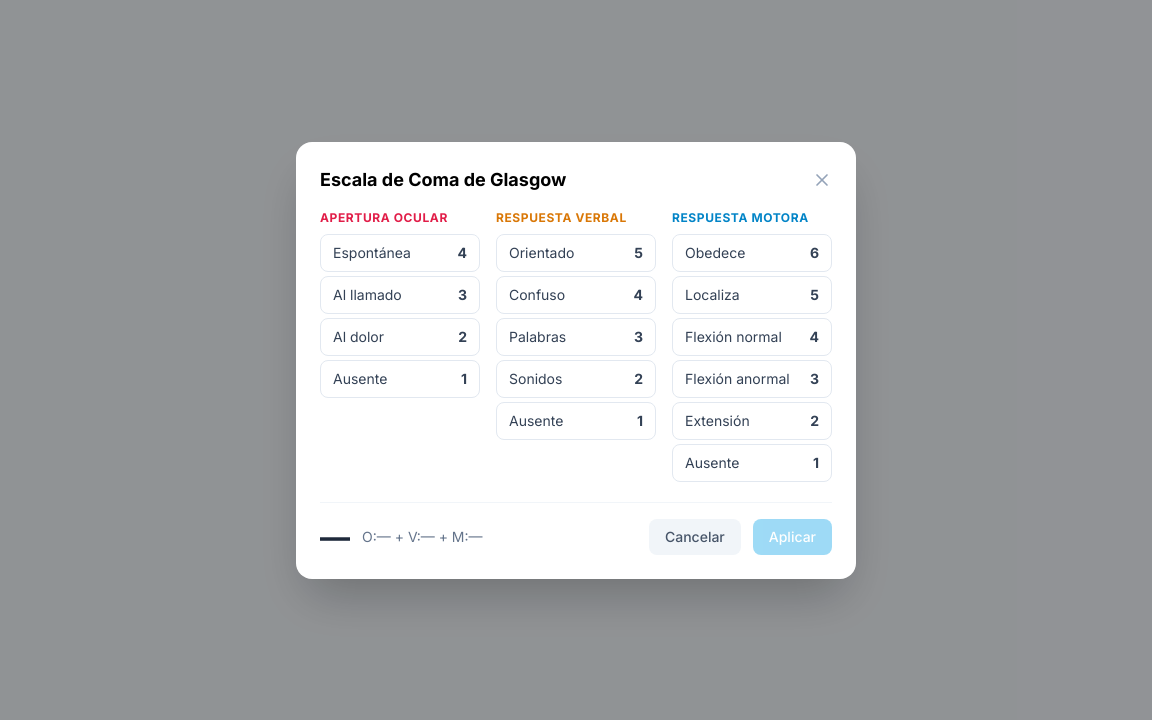
Test: KAN-79: GlasgowModal › calcula total correctamente (4+5+6=15)
The image size is (1152, 720).
Click the text "Espontánea".
click(372, 252)  # box [333, 242, 411, 262]
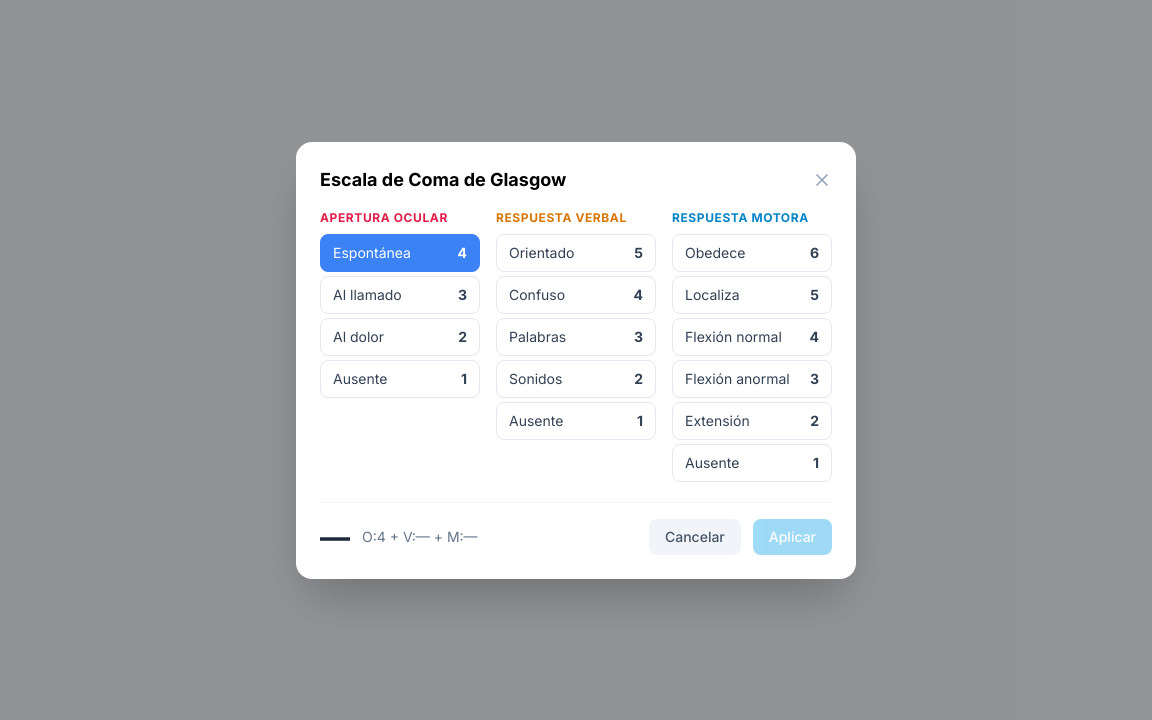
Click the text "Orientado".
click(542, 252)  # box [509, 242, 574, 262]
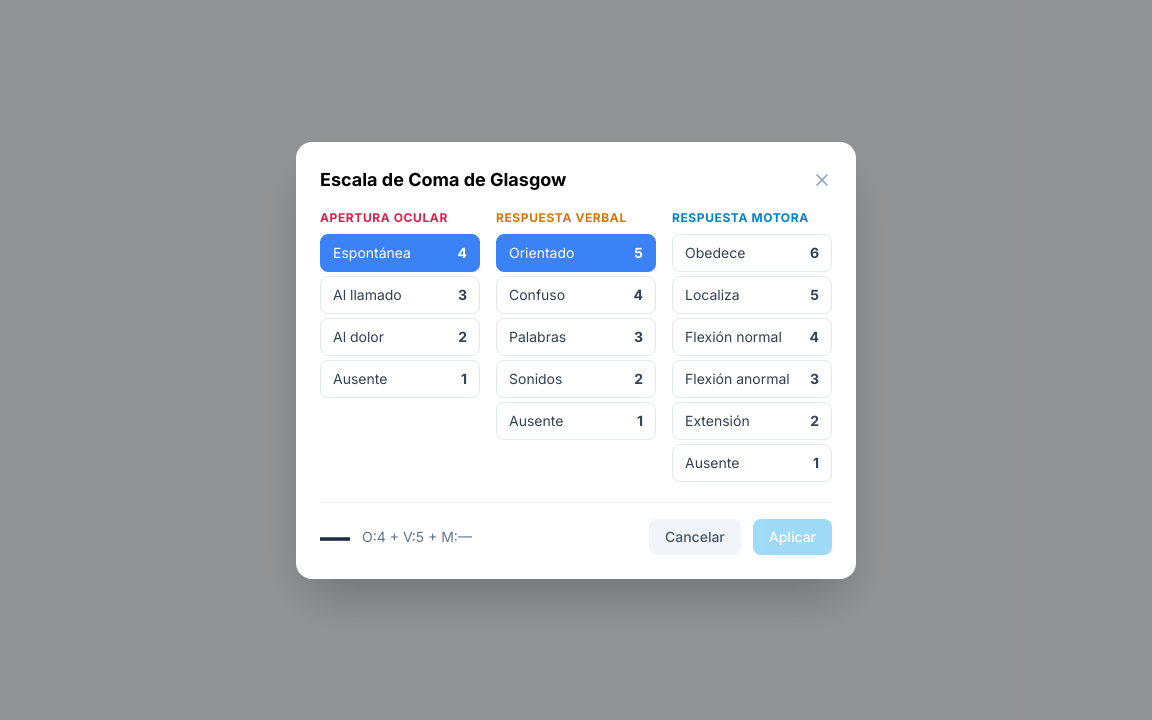
Click the text "Obedece".
click(715, 252)  # box [685, 242, 745, 262]
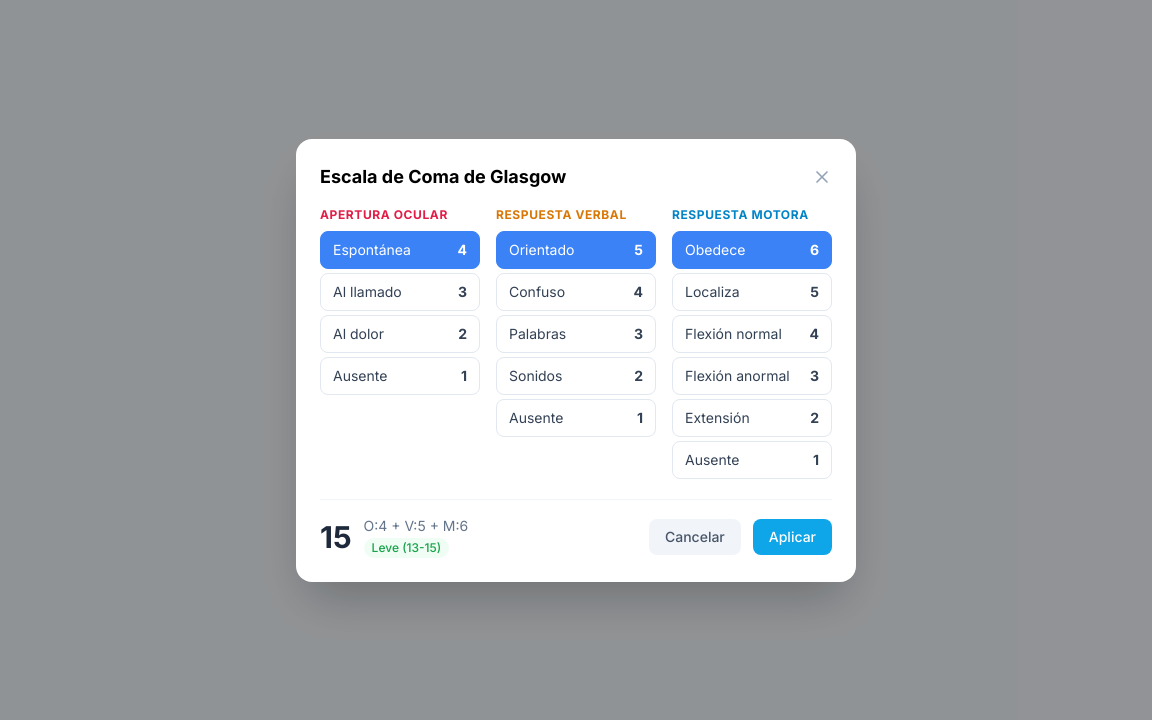
Now the text "O:4 + V:5 + M:6" is shown, box [364, 516, 468, 536]
Now the text "Leve (13-15)" is shown, box [364, 538, 449, 558]
